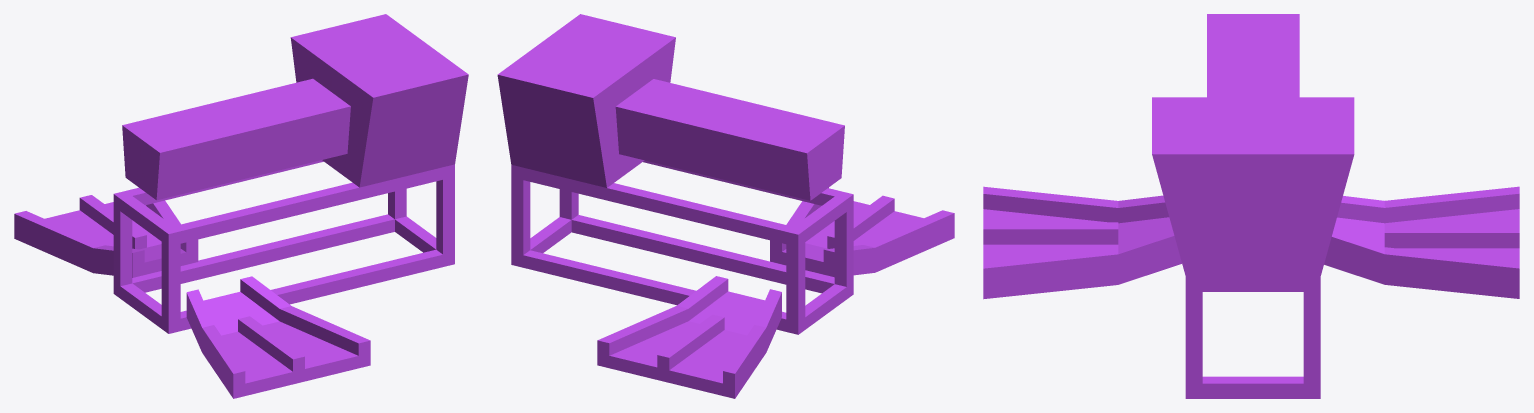
File: industrial_sluice.obj
The picture shows the model from 3 angles, left to right: view 1: azimuth 30°, elevation 25°; view 2: azimuth 150°, elevation 25°; view 3: azimuth 270°, elevation 25°; orthographic projection. The views are drawn at different scales.
Parts seen in each view (by area): view 1: Cube_Cube.001; view 2: Cube_Cube.001; view 3: Cube_Cube.001.
Part boxes in pixels (left/top/right/bottom): Cube_Cube.001: left=14, top=14, right=468, bottom=398; Cube_Cube.001: left=497, top=14, right=954, bottom=398; Cube_Cube.001: left=983, top=14, right=1519, bottom=398.
Size of the model in its own units: 6.38 by 4 by 7.95.
